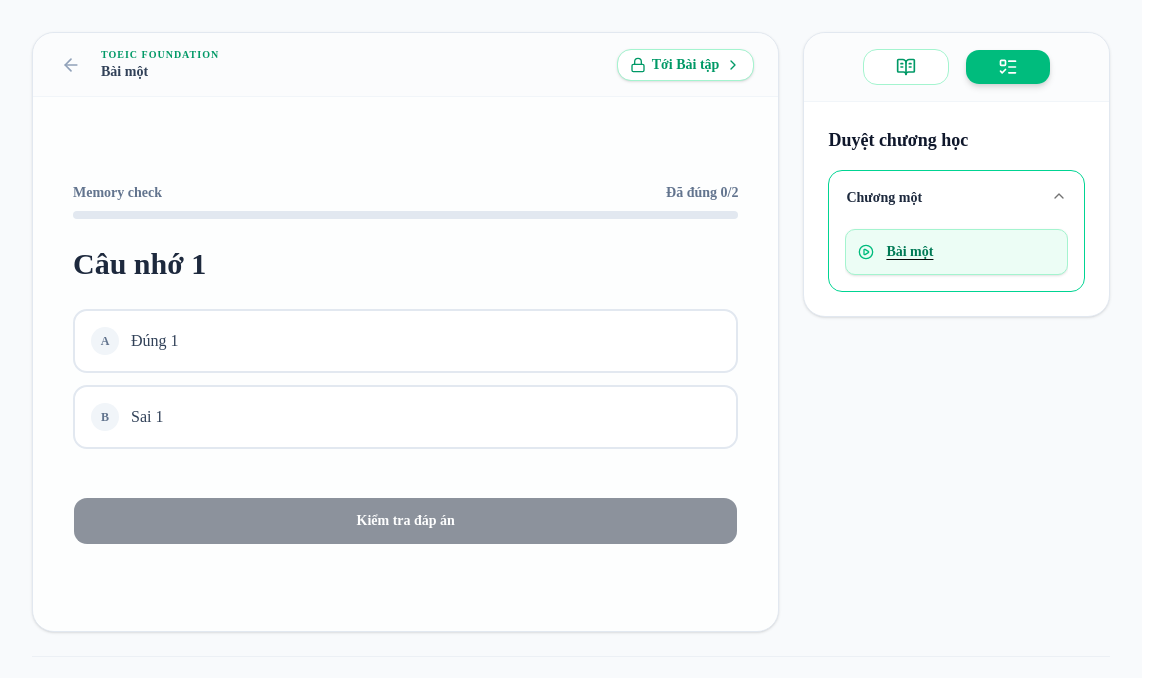
Test case: D3 memory check stage › shows the lock reason with a route back while exercises are locked
Click the button "Tới Bài tập" at (686, 64), box [617,48,754,80]
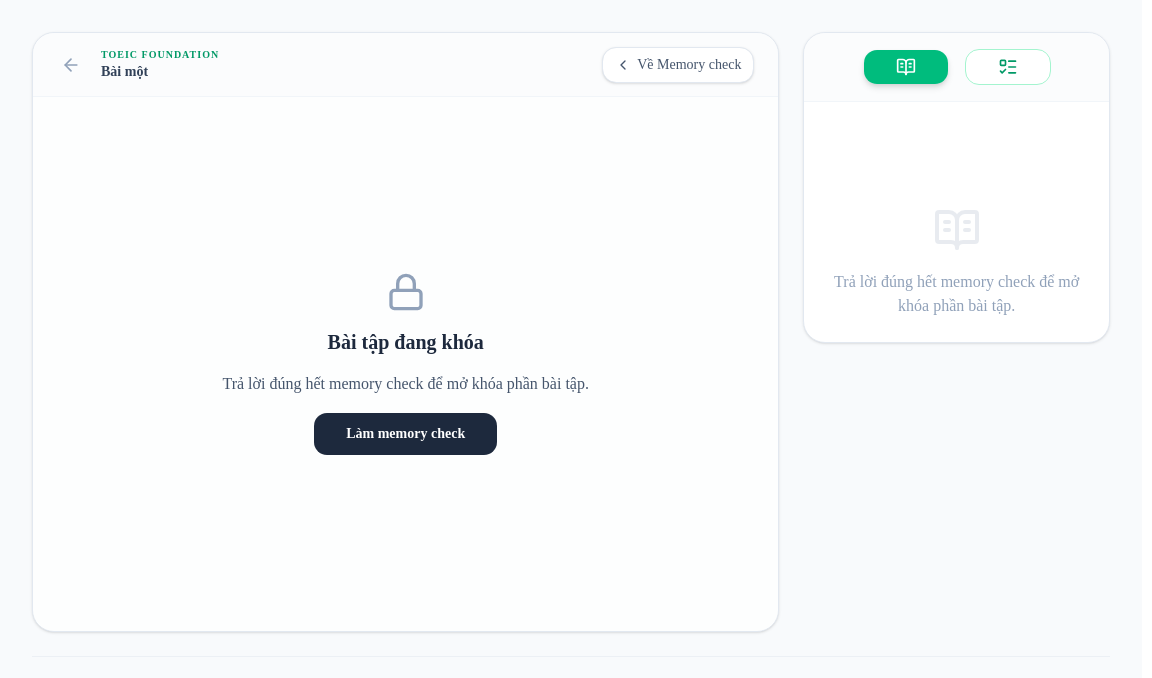
Check: the heading "Bài tập đang khóa" is shown, box [328,328,484,356]
Click the button "Làm memory check" at (406, 434), box [313,412,498,456]
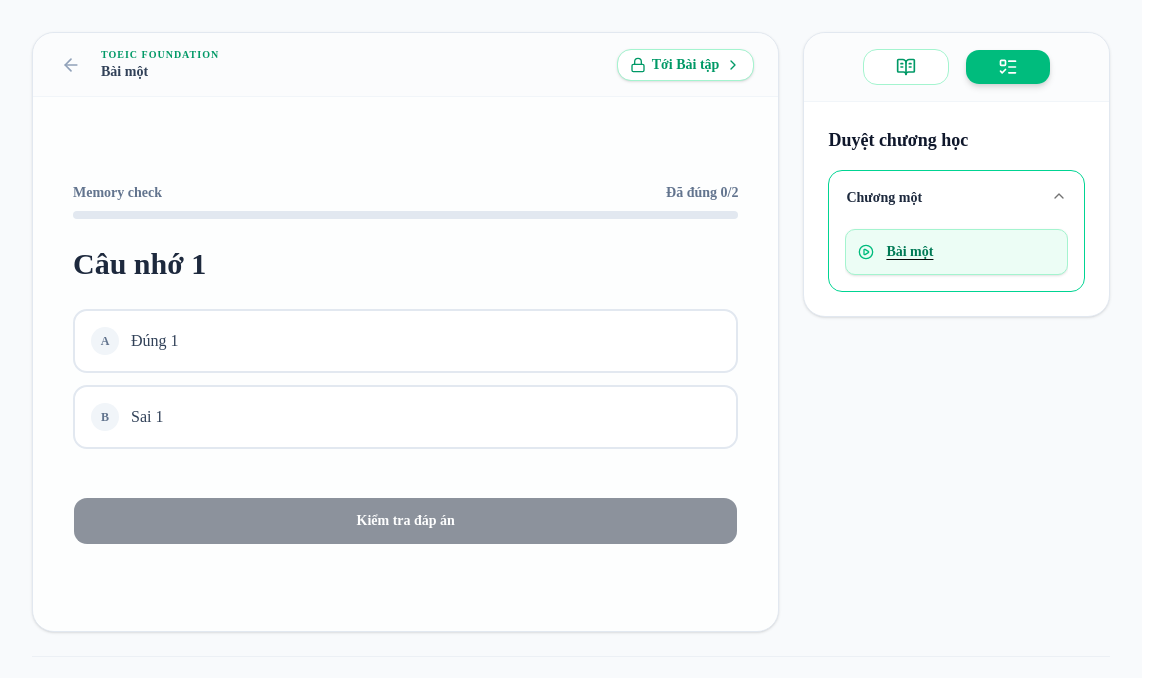
Check: the heading "Câu nhớ 1" is shown, box [73,247,206,280]
